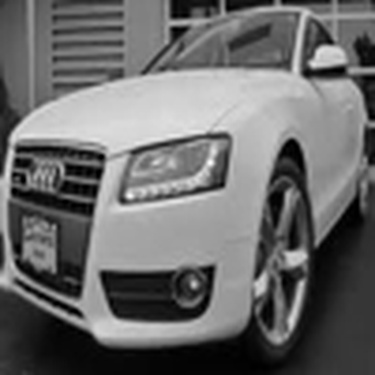car: (2, 5, 368, 368)
